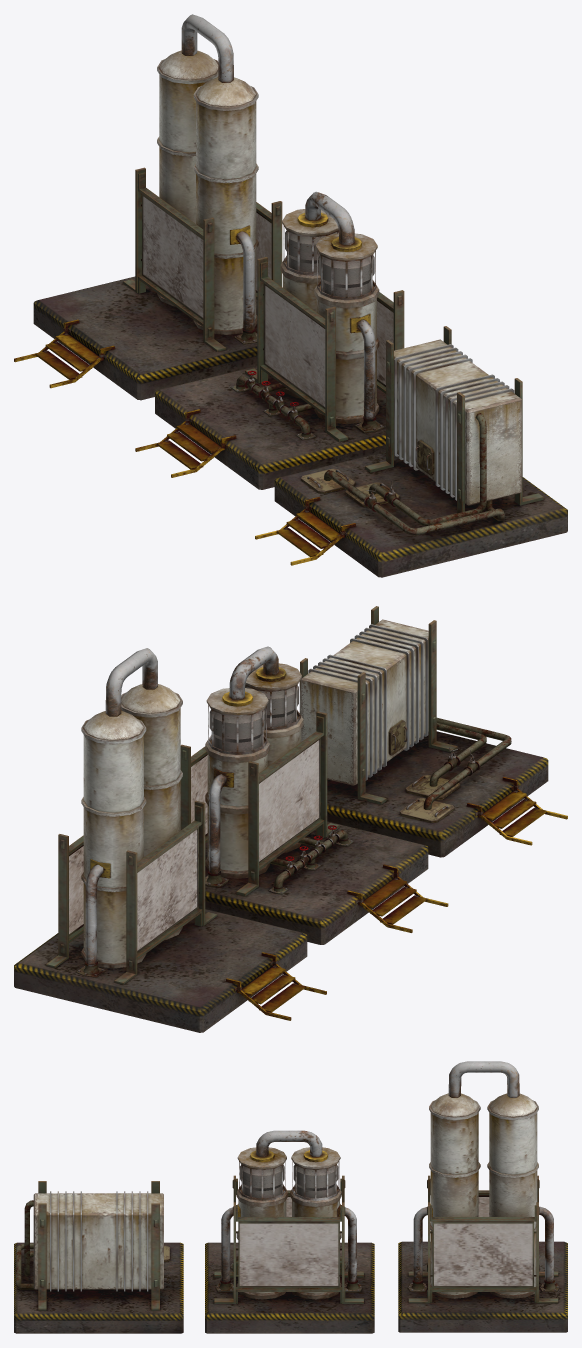
File: oil_tank.glb
The picture shows the model from 3 angles, top to bottom: view 1: azimuth 30°, elevation 25°; view 2: azimuth 150°, elevation 25°; view 3: azimuth 270°, elevation 25°; orthographic projection. The views are drawn at different scales.
Parts seen in each view (by area): view 1: defaultMaterial; view 2: defaultMaterial; view 3: defaultMaterial.
Part boxes in pixels (box(x1,y1,x2,y2)): defaultMaterial: box(14, 14, 567, 577); defaultMaterial: box(14, 606, 567, 1032); defaultMaterial: box(14, 1061, 567, 1333).
Bounding box in the file's own units: 179 × 218 × 444.
Materials: 1 (1 with a texture image).
